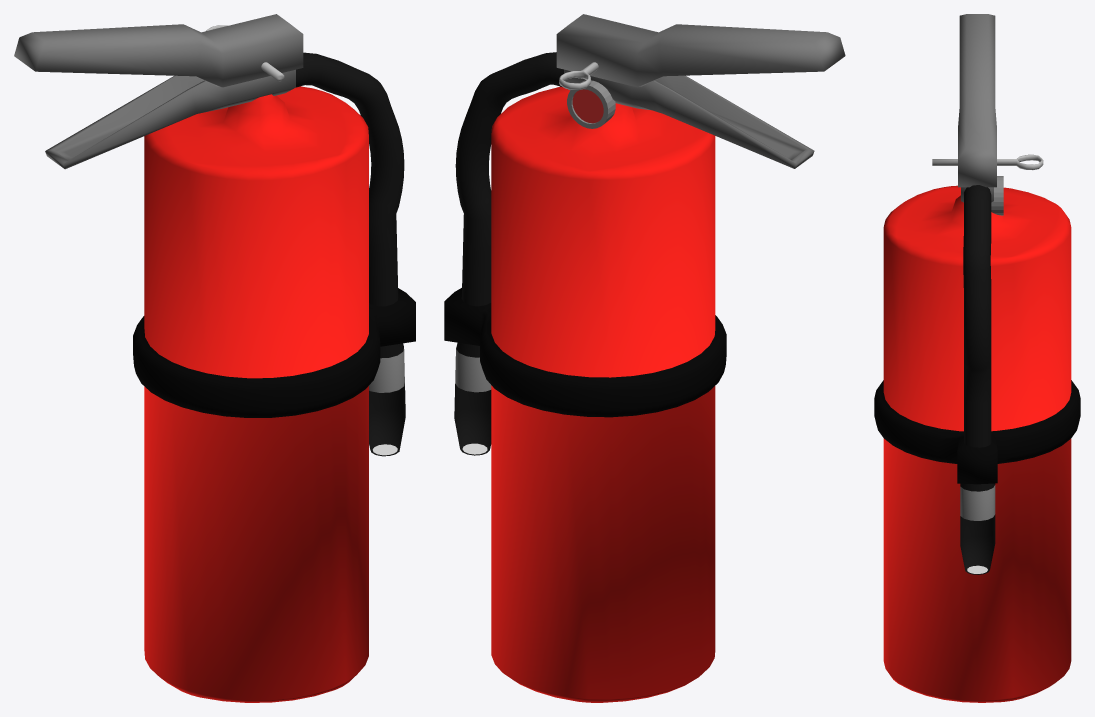
The model's file is fireextingusher.fbx.
3 renders of one model, left to right at view 1: azimuth 30°, elevation 25°; view 2: azimuth 150°, elevation 25°; view 3: azimuth 270°, elevation 25°, orthographic. The views are drawn at different scales.
Visible parts, largest first — view 1: Extinguisher, Handle A, Hose, Handle B; view 2: Extinguisher, Handle A, Hose, Handle B, Gauge; view 3: Extinguisher, Hose, Handle A, Pin, Gauge.
Boxes of the visible parts, <box> form: Extinguisher: <box>133,86,415,702</box>; Handle A: <box>14,14,303,87</box>; Hose: <box>296,52,405,456</box>; Handle B: <box>45,69,295,169</box>; Extinguisher: <box>444,86,726,702</box>; Handle A: <box>556,14,845,87</box>; Hose: <box>454,52,563,455</box>; Handle B: <box>564,69,814,168</box>; Gauge: <box>567,80,615,128</box>; Extinguisher: <box>874,185,1080,702</box>; Hose: <box>960,185,995,574</box>; Handle A: <box>958,14,996,187</box>; Pin: <box>932,154,1043,170</box>; Gauge: <box>991,176,1003,215</box>.
Size of the model in its own units: 24.84 by 42.01 by 13.97.
